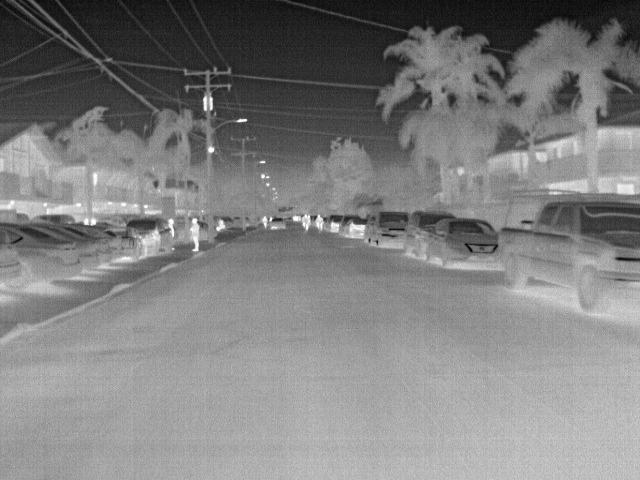car: (499, 191, 639, 316), (1, 221, 82, 280), (424, 218, 499, 274), (29, 222, 103, 271), (402, 210, 455, 259), (126, 215, 174, 256), (367, 210, 412, 251), (108, 226, 147, 260), (1, 227, 20, 282), (341, 220, 368, 237), (330, 216, 350, 234), (269, 218, 288, 232)
person: (190, 216, 202, 250), (299, 213, 312, 232), (313, 212, 325, 231), (260, 214, 270, 232)
